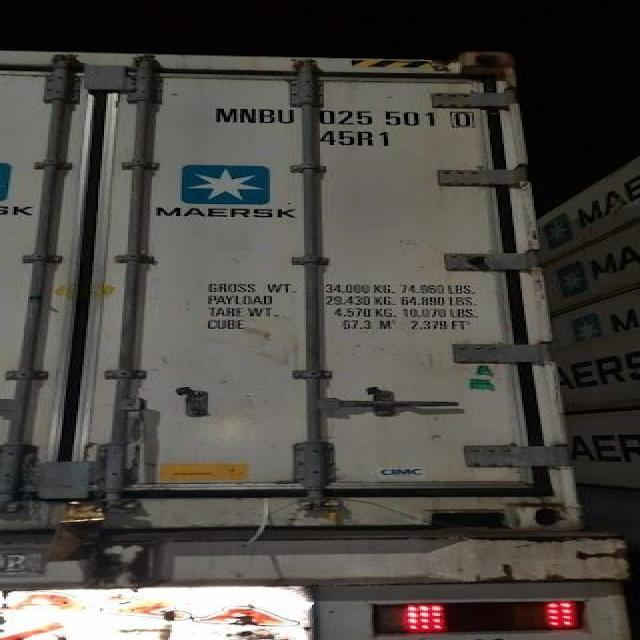ISO: (314, 128, 394, 148)
container_number: (215, 104, 472, 127)
